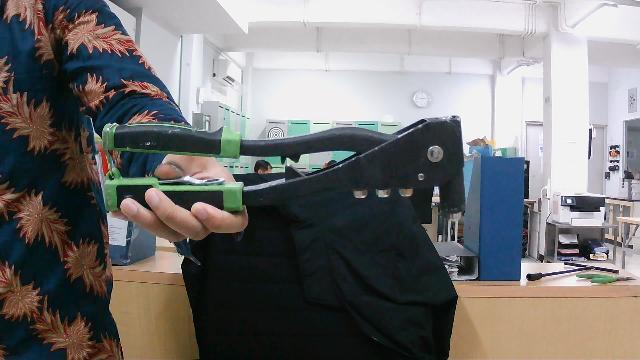tang_rivet: (83, 109, 469, 245)
